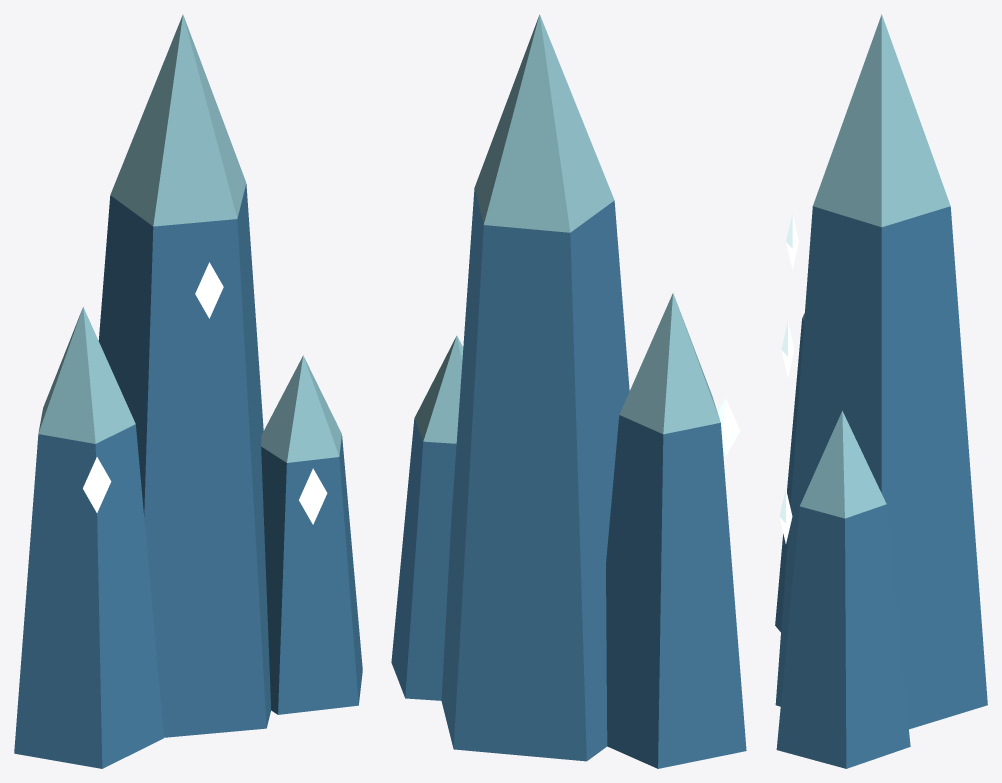
File: ice-spire.glb
3 views of the same model, side by side, from view 1: azimuth 30°, elevation 25°; view 2: azimuth 150°, elevation 25°; view 3: azimuth 270°, elevation 25° (orthographic). The views are drawn at different scales.
Parts seen in each view (by area): view 1: ice-spire; view 2: ice-spire; view 3: ice-spire.
Boxes of the visible parts, <box> form: ice-spire: <box>14,14,362,768</box>; ice-spire: <box>391,14,746,768</box>; ice-spire: <box>775,14,987,768</box>.
Bounding box in the file's own units: 2.42 × 4.55 × 1.3.
